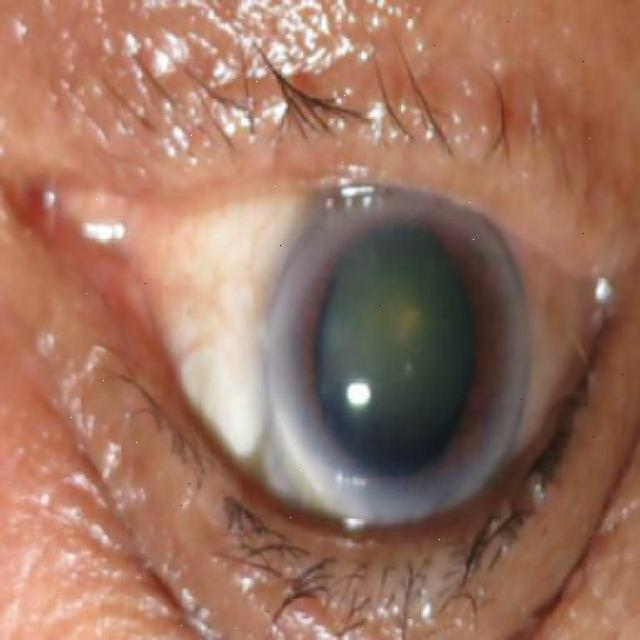Cataract: (262, 165, 530, 530)
